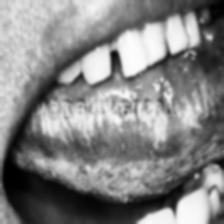Toxin: (42, 103, 106, 136)
